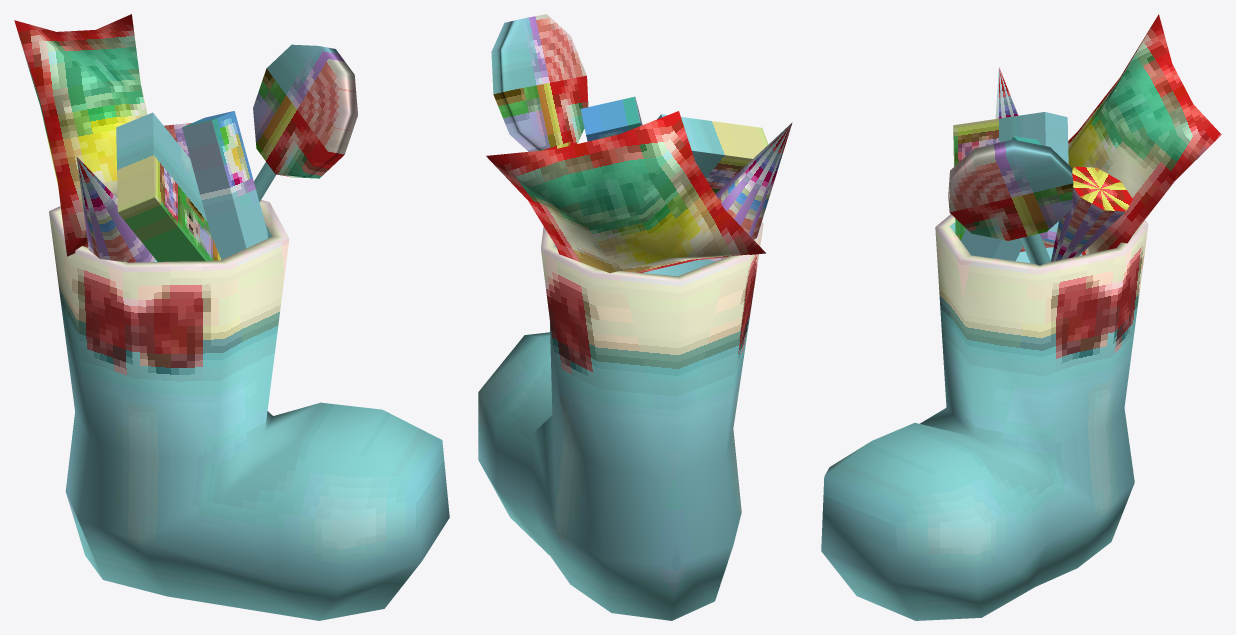
Rendered from int_oth_boots.dae.
The picture shows the model from 3 angles, left to right: view 1: azimuth 30°, elevation 25°; view 2: azimuth 150°, elevation 25°; view 3: azimuth 270°, elevation 25°; orthographic projection. The views are drawn at different scales.
Parts seen in each view (by area): view 1: int_oth_boots; view 2: int_oth_boots; view 3: int_oth_boots.
Boxes of the visible parts, x1=… form: int_oth_boots: x1=14, y1=14, x2=449, y2=620; int_oth_boots: x1=478, y1=14, x2=792, y2=620; int_oth_boots: x1=821, y1=14, x2=1221, y2=620.
Bounding box in the file's own units: 11.81 × 18.62 × 13.88.
1 material, 1 textured.
